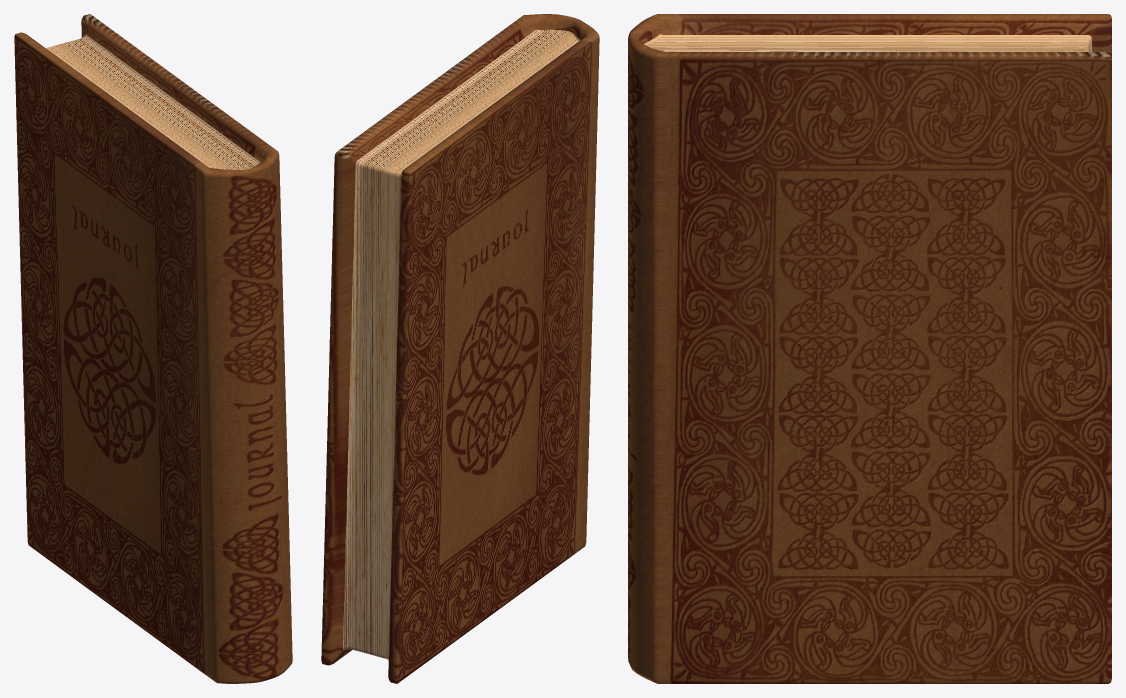
The model's file is Journal.fbx.
3 renders of one model, left to right at view 1: azimuth 30°, elevation 25°; view 2: azimuth 150°, elevation 25°; view 3: azimuth 270°, elevation 25°, orthographic. The views are drawn at different scales.
Parts seen in each view (by area): view 1: pCube4; view 2: pCube4; view 3: pCube4.
Part boxes in pixels (bbox=[...]): pCube4: bbox=[14, 14, 292, 683]; pCube4: bbox=[321, 14, 599, 683]; pCube4: bbox=[628, 14, 1111, 683].
Bounding box in the file's own units: 0.3915 × 2.16 × 1.52.
Materials: 2 (2 with a texture image).
